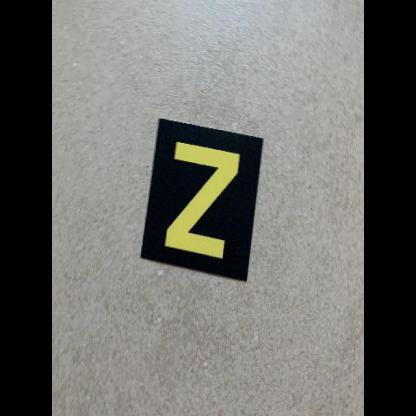z: (139, 116, 266, 289)
